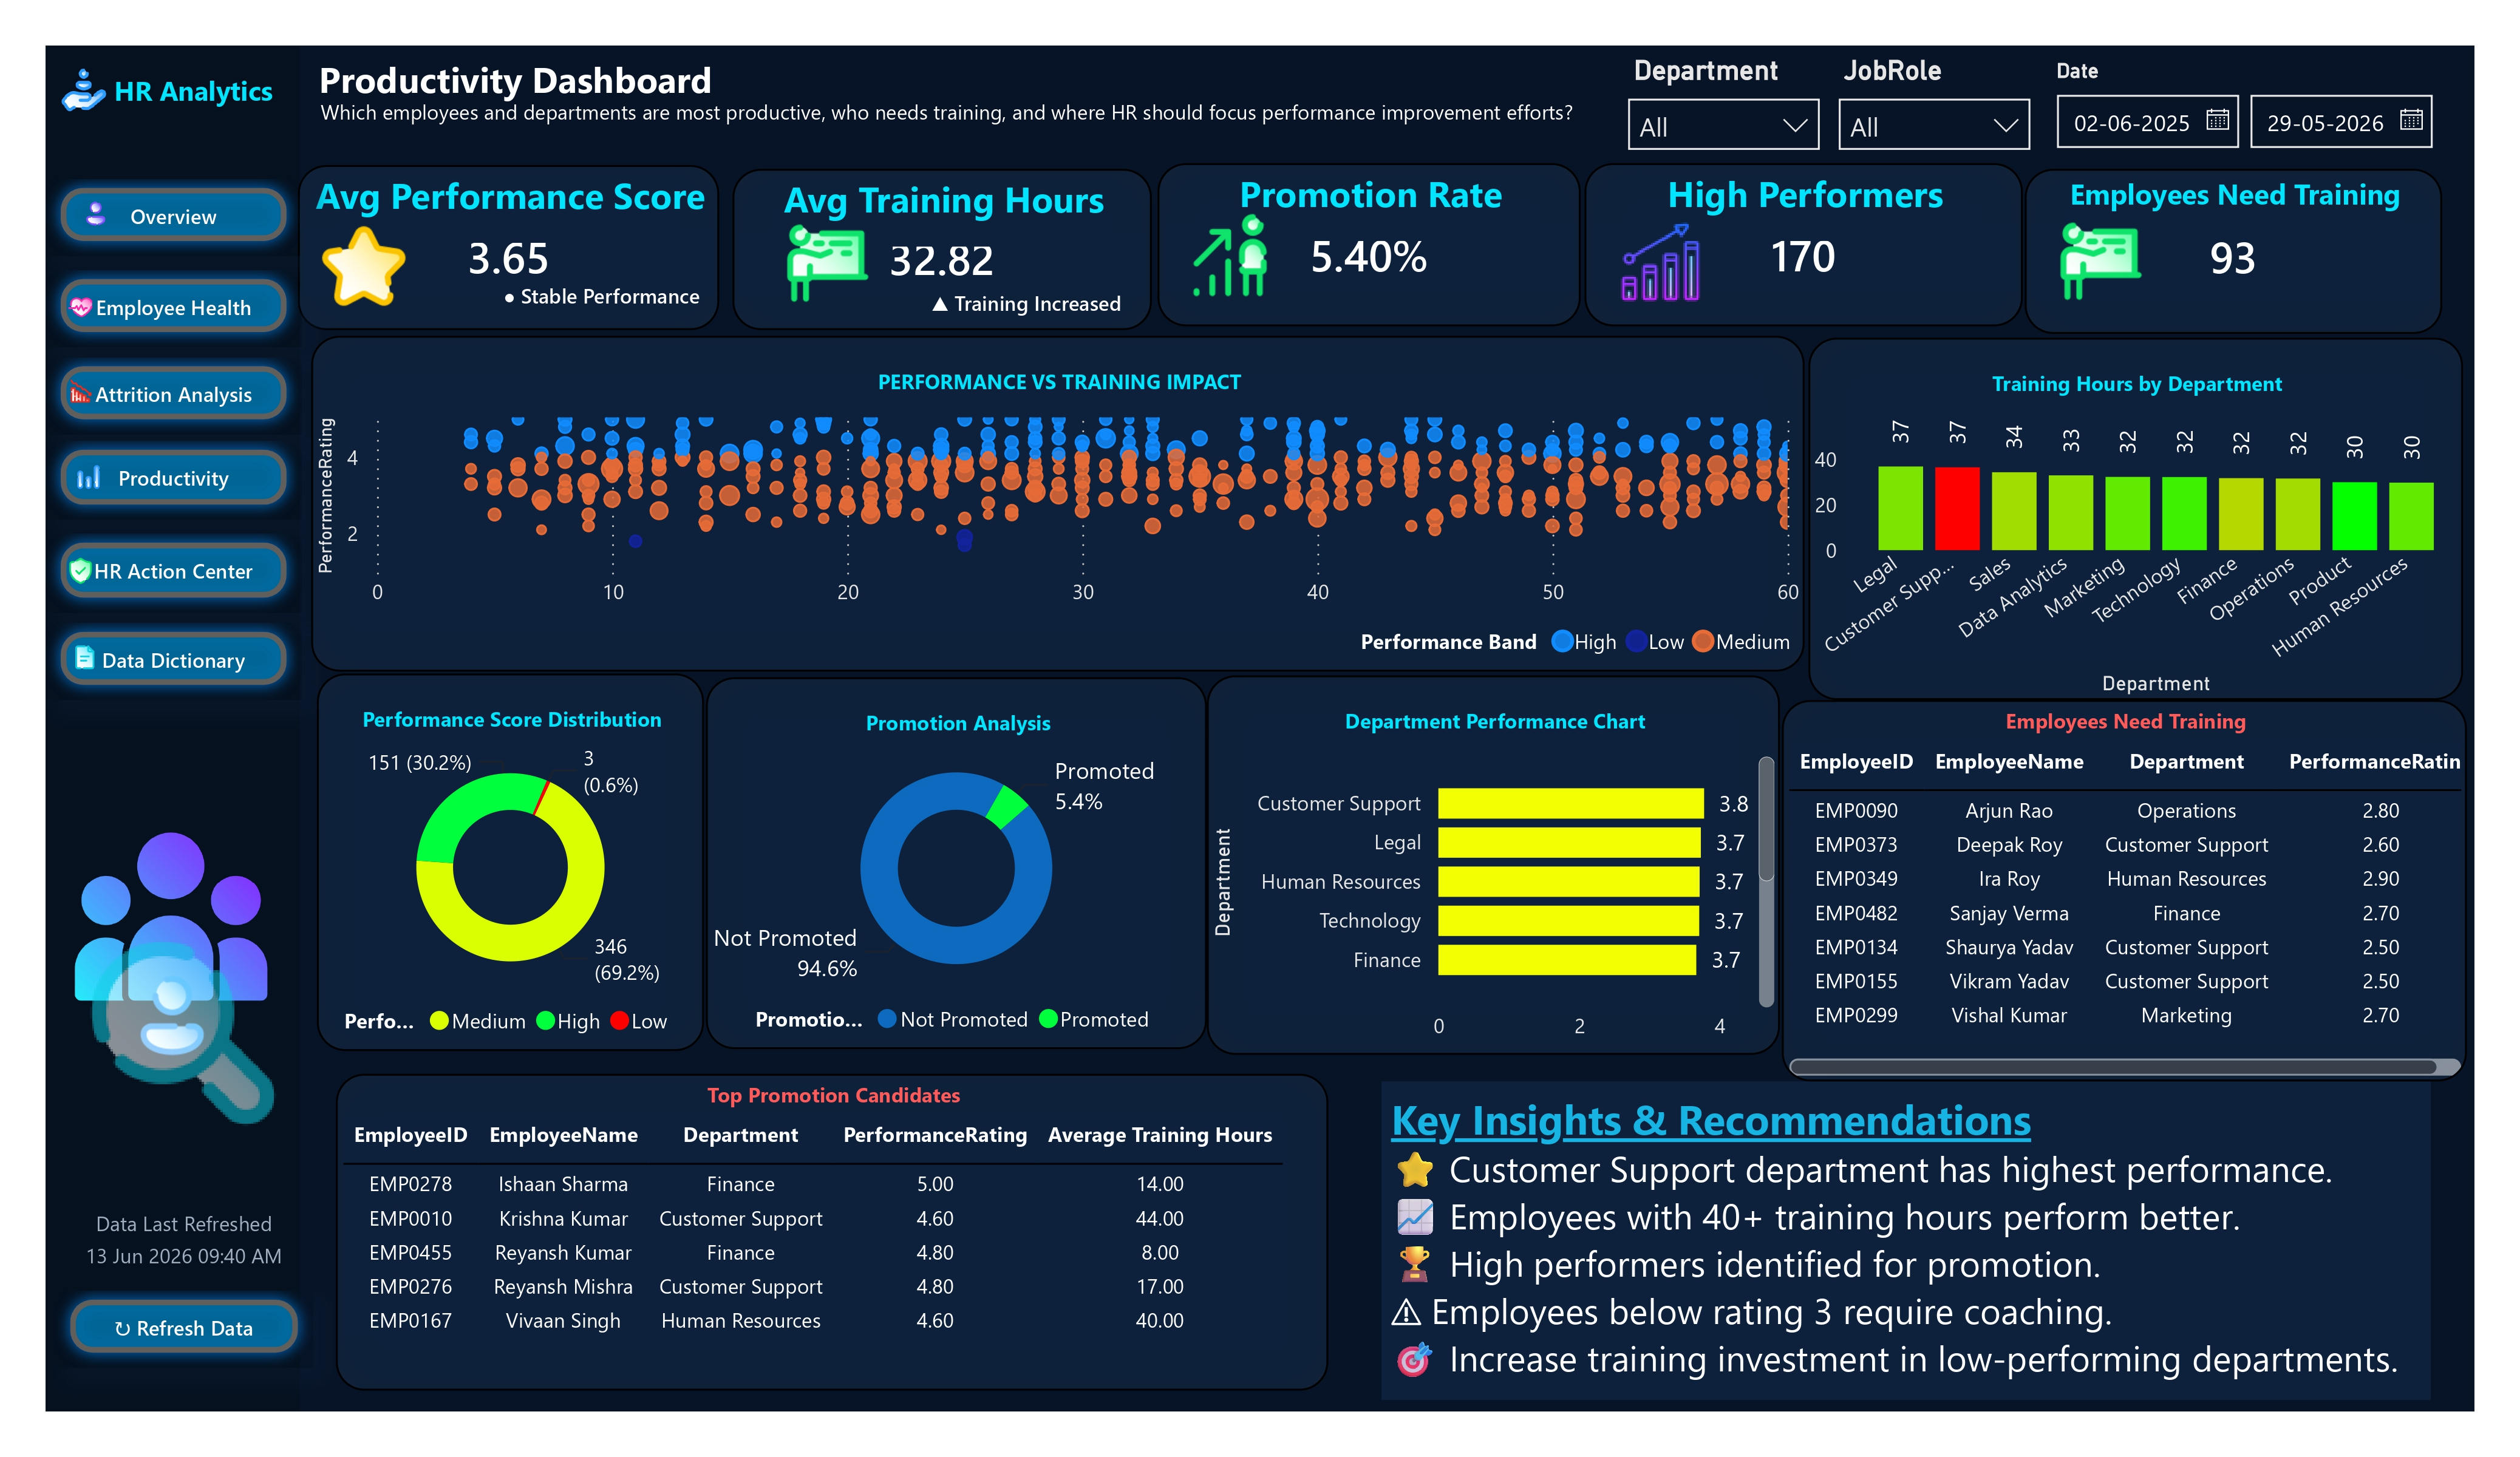

The dashboard page shown, as its layout file describes it:
{"tool":"powerbi","page":{"name":"Productivity","canvas":[1280,720],"ordinal":3},"visuals":[{"type":"shape","box":[0,0,134,720],"z":0},{"type":"cardVisual","title":"Avg Performance Score","fields":{"Data":["Performance Measures.Average Performance Score"]},"box":[133.3,63.1,222.2,86.1],"z":0,"group":"g3"},{"type":"group","id":"g1","title":"Group 4","box":[143.2,330.8,203.6,198.8],"z":35,"group":"g6"},{"type":"group","id":"g2","title":"Group 4","box":[347.8,332.7,264,195.6],"z":35,"group":"g7"},{"type":"textbox","box":[138.8,0,605,38.8],"z":1000},{"type":"cardVisual","title":"Avg Training Hours","fields":{"Data":["Performance Measures.Average Training Hours"]},"box":[362.3,64.3,221,85.9],"z":1000,"group":"g3"},{"type":"textbox","box":[140,20,670,44.3],"z":2000},{"type":"cardVisual","title":"Promotion Rate","fields":{"Data":["Performance Measures.Promotion Rate"]},"box":[586.6,61.7,222.4,86.4],"z":2000,"group":"g3"},{"type":"group","id":"g3","title":"Group 1","box":[133.3,61.7,1130,90],"z":3000},{"type":"cardVisual","title":"High Performers","fields":{"Data":["KPI Trend Measures.High Performers"]},"box":[811.1,61.7,230.7,86.4],"z":3000,"group":"g3"},{"type":"donutChart","title":"Performance Score Distribution","fields":{"Category":["performance.Performance Band"],"Y":["CountNonNull(employees.EmployeeID)"]},"box":[143.2,330.8,203.6,198.8],"z":3000,"group":"g1"},{"type":"donutChart","title":"Promotion Analysis","fields":{"Category":["performance.PromotionStatus"],"Y":["CountNonNull(employees.EmployeeID)"]},"box":[347.8,332.7,264,195.6],"z":3000,"group":"g2"},{"type":"slicer","fields":{"Values":["departments.Department"]},"box":[823.9,0,120.9,60.4],"z":4000},{"type":"cardVisual","title":"Employees Need Training","fields":{"Data":["HR Action Measures.Employees Need Training"]},"box":[1043.3,65.1,220,86.6],"z":4000,"group":"g3"},{"type":"scatterChart","title":"PERFORMANCE VS TRAINING IMPACT","fields":{"X":["performance.TrainingHours"],"Y":["performance.PerformanceRating"],"Size":["Sum(employees.Salary)"],"Series":["performance.Performance Band"]},"box":[140,152.7,787.4,176.6],"z":4000,"group":"g4"},{"type":"columnChart","title":"Training Hours by Department","fields":{"Category":["departments.Department"],"Y":["Performance Measures.Average Training Hours"]},"box":[928.7,154.3,345.2,190.9],"z":4000,"group":"g5"},{"type":"clusteredBarChart","title":"Department Performance Chart","fields":{"Category":["departments.Department"],"Y":["Performance Measures.Average Performance Score"]},"box":[612.4,332.4,302.2,200.4],"z":4000,"group":"g8"},{"type":"slicer","fields":{"Values":["employees.JobRole"]},"box":[935.3,0,120.9,60.4],"z":5000},{"type":"slicer","fields":{"Values":["DateTable.Date"]},"box":[1046.7,2.2,227.8,60],"z":6000},{"type":"textbox","box":[29.4,8.9,97.2,30],"z":7000},{"type":"actionButton","box":[0,66.8,135.2,44.5],"z":8000},{"type":"actionButton","box":[0,114.5,135.2,44.5],"z":9000},{"type":"actionButton","box":[0,160.7,135.2,44.5],"z":10000},{"type":"actionButton","box":[0,205.2,135.2,44.5],"z":11000},{"type":"actionButton","box":[0,254.5,135.2,44.5],"z":12000},{"type":"actionButton","box":[0,300.6,135.2,44.5],"z":13000},{"type":"image","box":[12.8,396.8,106.7,124.4],"z":14000},{"type":"image","box":[42.2,480,50,62.2],"z":15000},{"type":"image","box":[11.1,457.8,123.3,125.6],"z":16000},{"type":"image","box":[19,81.4,14.8,14.8],"z":17000},{"type":"image","box":[11.4,130.9,15.5,14.5],"z":18000},{"type":"image","box":[11.4,174.8,14.8,15.2],"z":19000},{"type":"image","box":[14.3,220.5,15.2,14.8],"z":20000},{"type":"image","box":[11,269,15.2,14.8],"z":21000},{"type":"image","box":[12.9,314.3,14.8,15.2],"z":22000},{"type":"image","box":[7.2,9.4,25.6,28.9],"z":23000},{"type":"actionButton","box":[5.3,652.7,135.3,44.7],"z":24000},{"type":"textbox","box":[11.4,606.4,123.6,50.7],"z":25000},{"type":"group","id":"g4","title":"Group 3","box":[140,152.7,787.4,176.6],"z":26000},{"type":"textbox","box":[704.3,545.7,552.9,168.6],"z":27000},{"type":"group","id":"g5","title":"Group 3","box":[928.7,154.3,345.2,190.9],"z":28000},{"type":"group","id":"g6","title":"Group 2","box":[143.2,330.8,203.6,198.8],"z":29000},{"type":"group","id":"g7","title":"Group 2","box":[347.8,332.7,264,195.6],"z":30000},{"type":"tableEx","title":"Top Promotion Candidates","fields":{"Values":["performance.EmployeeID","employees.EmployeeName","departments.Department","performance.PerformanceRating","Performance Measures.Average Training Hours"]},"box":[152.7,542.4,523.3,167],"z":31000},{"type":"tableEx","title":"Employees Need Training","fields":{"Values":["performance.EmployeeID","employees.EmployeeName","departments.Department","performance.PerformanceRating"]},"box":[914.6,345.2,361.1,200.4],"z":32000},{"type":"group","id":"g8","title":"Group 3","box":[612.4,332.4,302.2,200.4],"z":33000},{"type":"cardVisual","fields":{"Data":["KPI Trend Measures.Performance Trend Text"]},"box":[222.7,111.3,140,46.1],"z":34000},{"type":"cardVisual","fields":{"Data":["Performance Measures.Training Trend Text"]},"box":[447,114.5,140,46.1],"z":35000},{"type":"image","box":[1043.8,90,80,50],"z":35001},{"type":"image","box":[583.8,86.2,80,50],"z":35002},{"type":"image","box":[372.9,91.4,80,50],"z":35003},{"type":"image","box":[127.5,91.2,80,50],"z":35004},{"type":"image","box":[811.2,88.8,80,50],"z":35005}]}

Visuals, with their boxes on the page's 1280x720 design canvas (x1, y1, x2, y2). These are canvas units, not pixel positions in the 2520x1457 screenshot, which may show the page scaled, cropped or inside an application window:
shape: (x1=0, y1=0, x2=134, y2=720)
"Avg Performance Score" cardVisual: (x1=133, y1=63, x2=356, y2=149)
"Group 4" group: (x1=143, y1=331, x2=347, y2=530)
"Group 4" group: (x1=348, y1=333, x2=612, y2=528)
textbox: (x1=139, y1=0, x2=744, y2=39)
"Avg Training Hours" cardVisual: (x1=362, y1=64, x2=583, y2=150)
textbox: (x1=140, y1=20, x2=810, y2=64)
"Promotion Rate" cardVisual: (x1=587, y1=62, x2=809, y2=148)
"Group 1" group: (x1=133, y1=62, x2=1263, y2=152)
"High Performers" cardVisual: (x1=811, y1=62, x2=1042, y2=148)
"Performance Score Distribution" donutChart: (x1=143, y1=331, x2=347, y2=530)
"Promotion Analysis" donutChart: (x1=348, y1=333, x2=612, y2=528)
slicer - departments.Department: (x1=824, y1=0, x2=945, y2=60)
"Employees Need Training" cardVisual: (x1=1043, y1=65, x2=1263, y2=152)
"PERFORMANCE VS TRAINING IMPACT" scatterChart: (x1=140, y1=153, x2=927, y2=329)
"Training Hours by Department" columnChart: (x1=929, y1=154, x2=1274, y2=345)
"Department Performance Chart" clusteredBarChart: (x1=612, y1=332, x2=915, y2=533)
slicer - employees.JobRole: (x1=935, y1=0, x2=1056, y2=60)
slicer - DateTable.Date: (x1=1047, y1=2, x2=1274, y2=62)
textbox: (x1=29, y1=9, x2=127, y2=39)
actionButton: (x1=0, y1=67, x2=135, y2=111)
actionButton: (x1=0, y1=114, x2=135, y2=159)
actionButton: (x1=0, y1=161, x2=135, y2=205)
actionButton: (x1=0, y1=205, x2=135, y2=250)
actionButton: (x1=0, y1=254, x2=135, y2=299)
actionButton: (x1=0, y1=301, x2=135, y2=345)
image: (x1=13, y1=397, x2=120, y2=521)
image: (x1=42, y1=480, x2=92, y2=542)
image: (x1=11, y1=458, x2=134, y2=583)
image: (x1=19, y1=81, x2=34, y2=96)
image: (x1=11, y1=131, x2=27, y2=145)
image: (x1=11, y1=175, x2=26, y2=190)
image: (x1=14, y1=220, x2=30, y2=235)
image: (x1=11, y1=269, x2=26, y2=284)
image: (x1=13, y1=314, x2=28, y2=330)
image: (x1=7, y1=9, x2=33, y2=38)
actionButton: (x1=5, y1=653, x2=141, y2=697)
textbox: (x1=11, y1=606, x2=135, y2=657)
"Group 3" group: (x1=140, y1=153, x2=927, y2=329)
textbox: (x1=704, y1=546, x2=1257, y2=714)
"Group 3" group: (x1=929, y1=154, x2=1274, y2=345)
"Group 2" group: (x1=143, y1=331, x2=347, y2=530)
"Group 2" group: (x1=348, y1=333, x2=612, y2=528)
"Top Promotion Candidates" tableEx: (x1=153, y1=542, x2=676, y2=709)
"Employees Need Training" tableEx: (x1=915, y1=345, x2=1276, y2=546)
"Group 3" group: (x1=612, y1=332, x2=915, y2=533)
cardVisual - KPI Trend Measures.Performance Trend Text: (x1=223, y1=111, x2=363, y2=157)
cardVisual - Performance Measures.Training Trend Text: (x1=447, y1=114, x2=587, y2=161)
image: (x1=1044, y1=90, x2=1124, y2=140)
image: (x1=584, y1=86, x2=664, y2=136)
image: (x1=373, y1=91, x2=453, y2=141)
image: (x1=128, y1=91, x2=208, y2=141)
image: (x1=811, y1=89, x2=891, y2=139)
